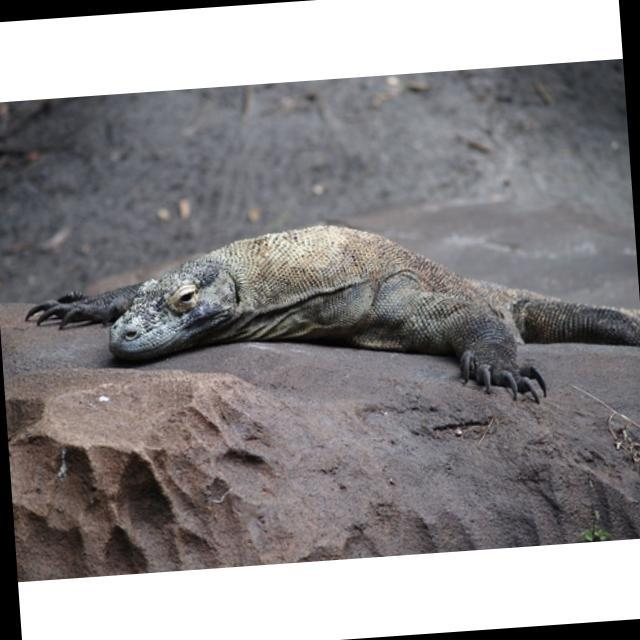KomodoDragon: (21, 207, 640, 435)
